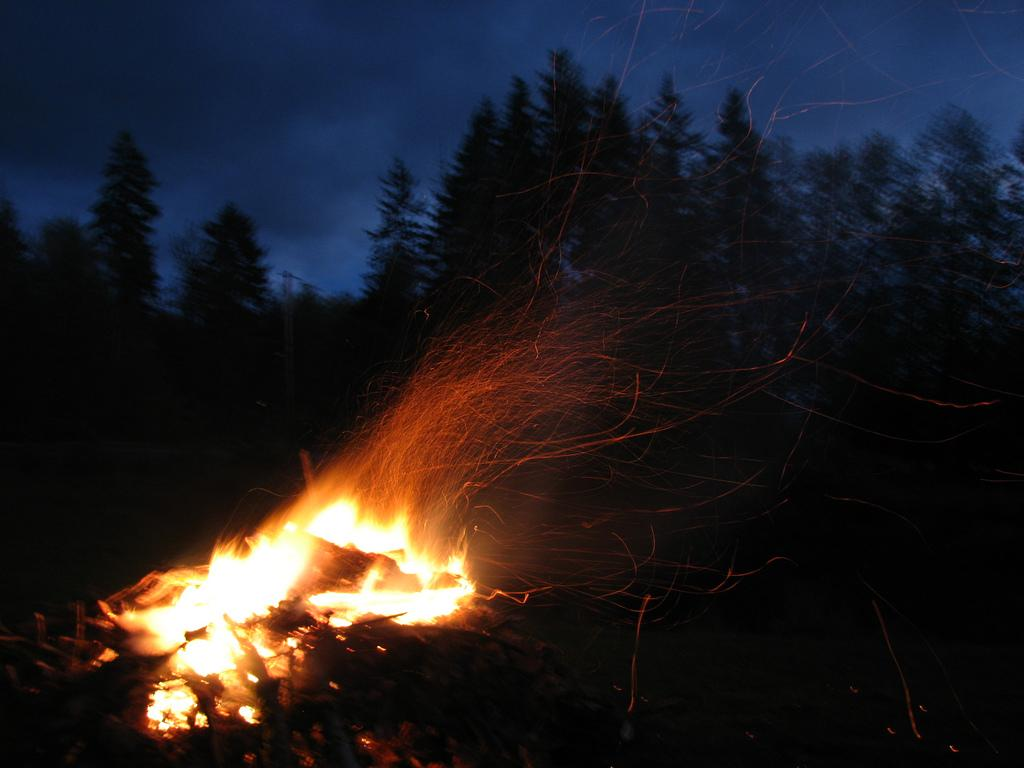fire: (200, 548, 302, 622), (174, 630, 246, 682), (310, 502, 374, 546)
